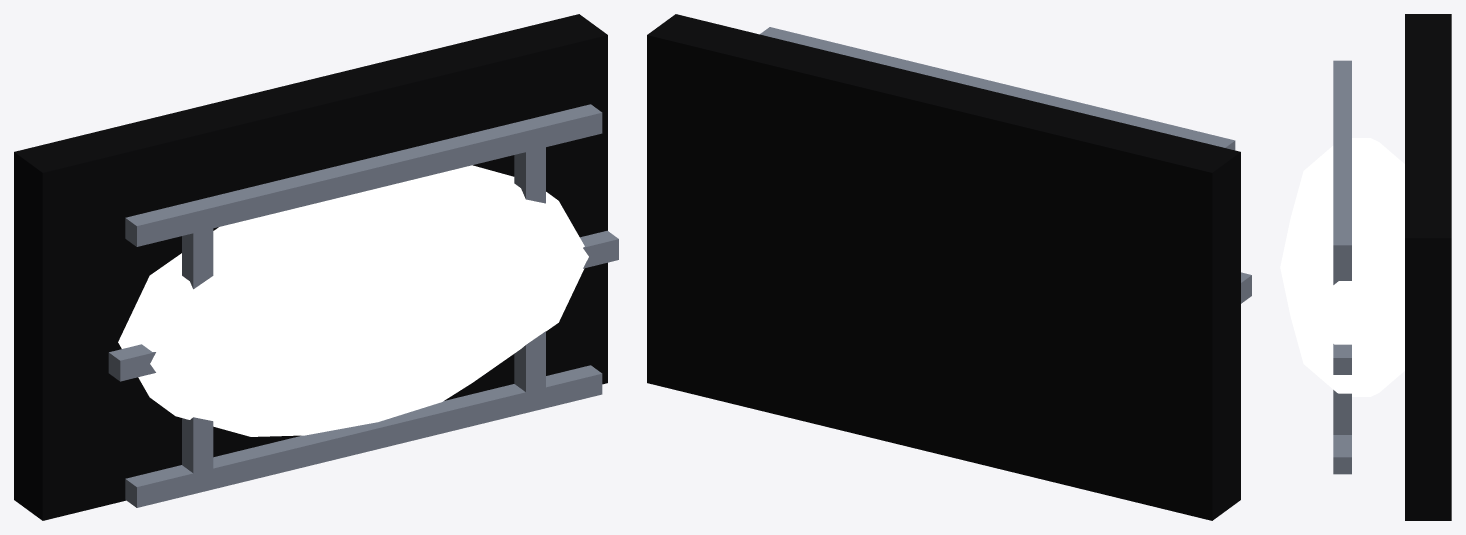
The model's file is SM_Light_Wall_Bulkhead.glb.
3 renders of one model, left to right at view 1: azimuth 30°, elevation 25°; view 2: azimuth 150°, elevation 25°; view 3: azimuth 270°, elevation 25°, orthographic. The views are drawn at different scales.
Parts seen in each view (by area): view 1: SM_Light_Wall_Bulkhead; view 2: SM_Light_Wall_Bulkhead; view 3: SM_Light_Wall_Bulkhead.
Part boxes in pixels (box(x1,y1,x2,y2)): SM_Light_Wall_Bulkhead: box(14, 14, 618, 520); SM_Light_Wall_Bulkhead: box(647, 14, 1251, 520); SM_Light_Wall_Bulkhead: box(1280, 14, 1451, 520).
Size of the model in its own units: 0.34 by 0.2 by 0.11.
